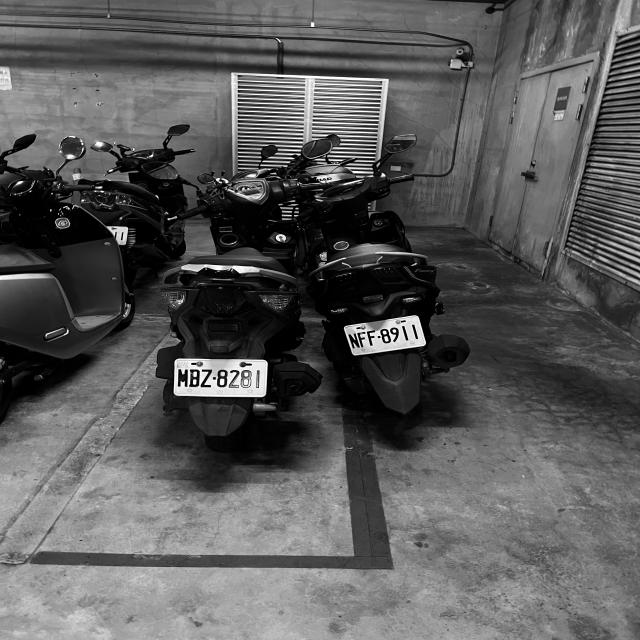-: (377, 335, 382, 340), (212, 376, 216, 380)
1: (409, 323, 420, 342), (400, 325, 410, 340), (255, 369, 261, 389), (119, 231, 125, 243)
2: (229, 368, 239, 388)
8: (240, 369, 252, 389), (379, 328, 392, 345), (216, 369, 227, 387)
9: (389, 327, 402, 343)
B: (188, 368, 200, 388)
F: (356, 331, 368, 349), (366, 329, 377, 347)
M: (177, 368, 188, 387)
N: (348, 333, 361, 350)
Z: (201, 368, 213, 388)
plate: (174, 358, 264, 396), (345, 316, 426, 356)
